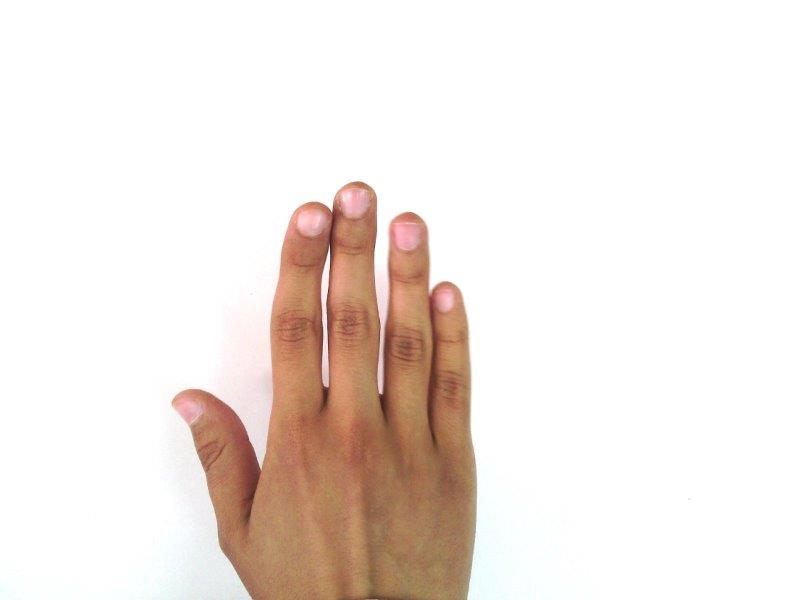hand: (172, 184, 477, 594)
